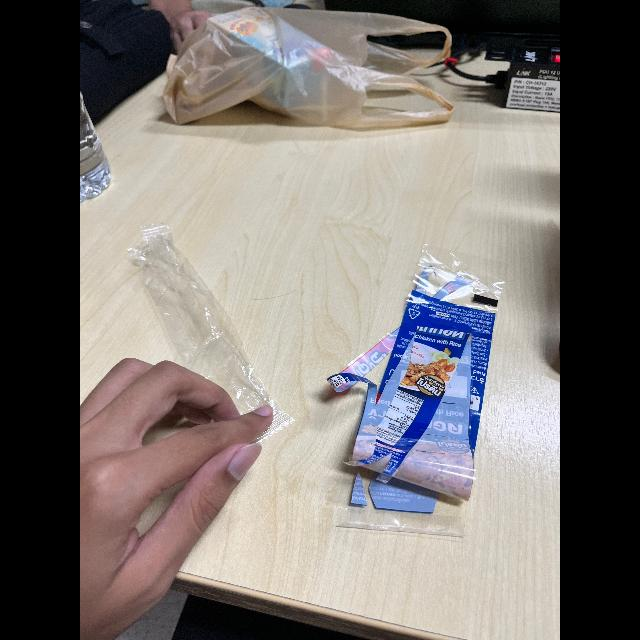scrap_plastic: (324, 242, 516, 550), (119, 221, 274, 449)
